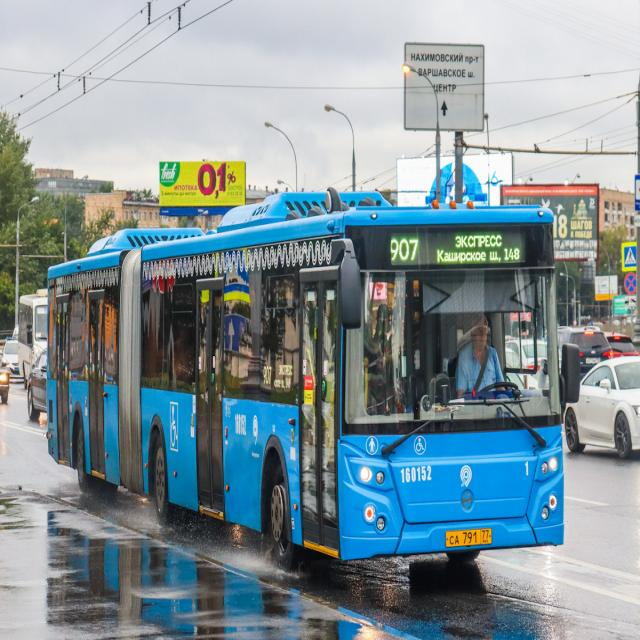number-of-bus: (389, 235, 421, 265)
